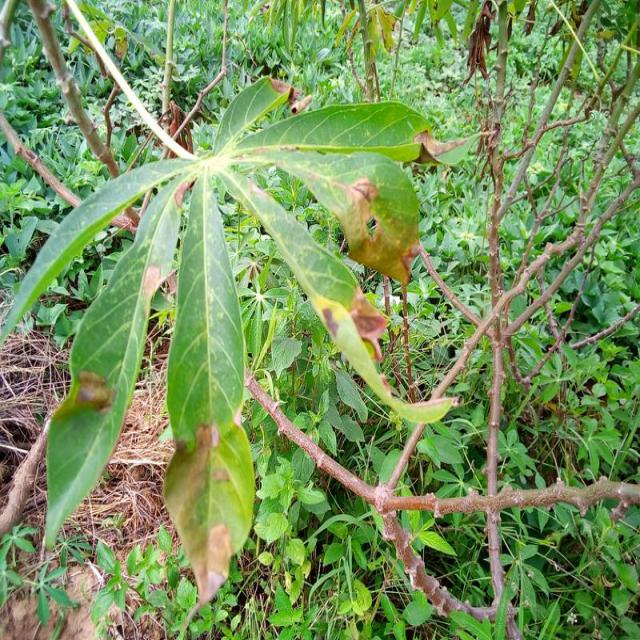cassava leaf: (2, 75, 456, 611), (44, 164, 194, 550), (162, 168, 257, 609)
